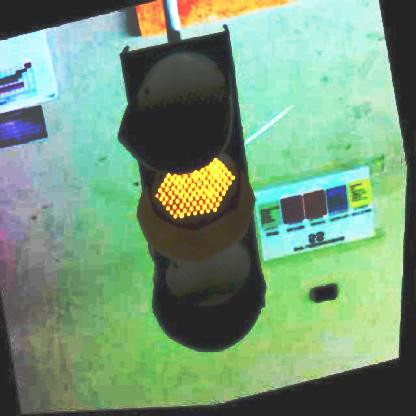Traffic Light -Yellow-: (100, 27, 297, 367)
